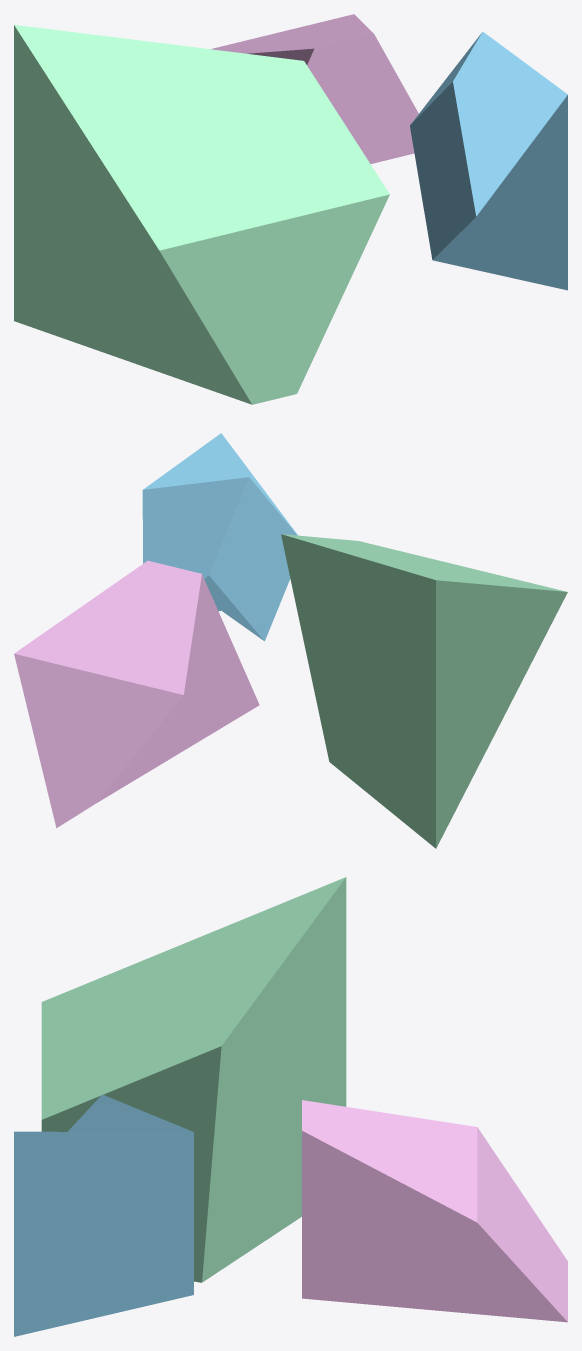
File: quantum_stones.fbx
The picture shows the model from 3 angles, top to bottom: view 1: azimuth 30°, elevation 25°; view 2: azimuth 150°, elevation 25°; view 3: azimuth 270°, elevation 25°; orthographic projection. The views are drawn at different scales.
Visible parts, largest first — view 1: Cube.001, Cube, Cube.002; view 2: Cube.001, Cube.002, Cube; view 3: Cube.001, Cube.002, Cube.
Boxes of the visible parts, x1,y1,x2,y2 form: Cube.001: (14, 25, 389, 404); Cube: (410, 31, 567, 290); Cube.002: (211, 14, 418, 163); Cube.001: (281, 534, 567, 848); Cube.002: (14, 560, 259, 828); Cube: (142, 433, 297, 641); Cube.001: (41, 877, 346, 1282); Cube.002: (302, 1100, 567, 1322); Cube: (14, 1094, 193, 1336).
Bounding box in the file's own units: 430 × 302 × 489.
